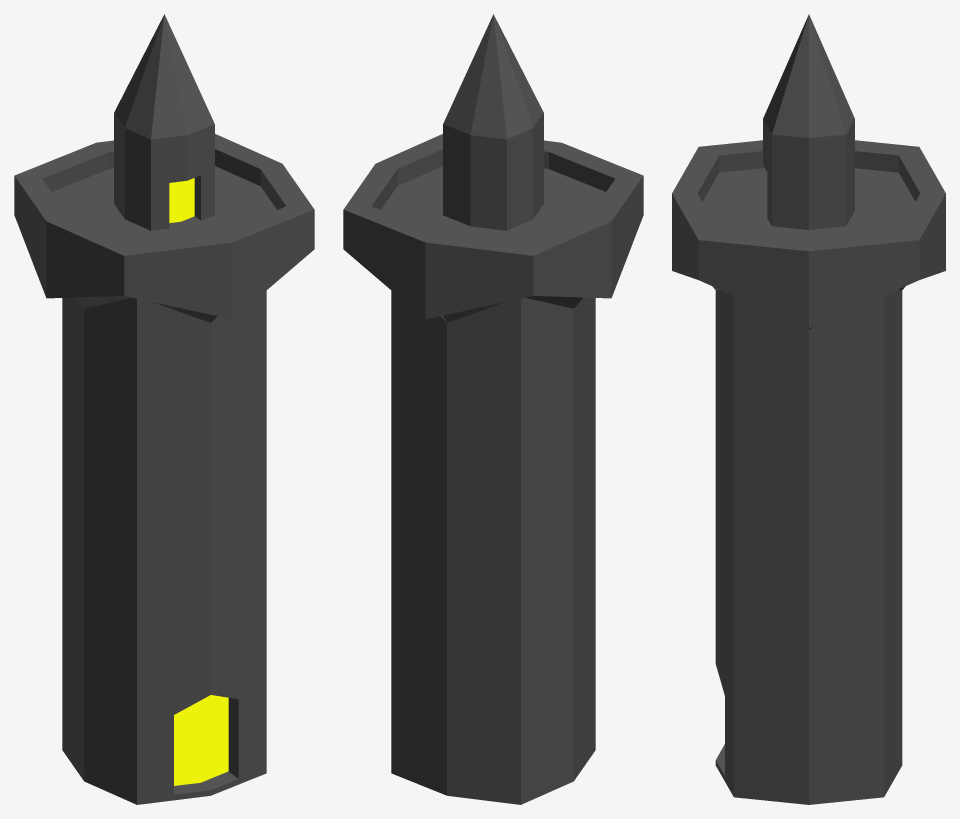
File: Dark Tower.glb
3 renders of one model, left to right at view 1: azimuth 30°, elevation 25°; view 2: azimuth 150°, elevation 25°; view 3: azimuth 270°, elevation 25°, orthographic.
Visible parts, largest first — view 1: Dark Tower; view 2: Dark Tower; view 3: Dark Tower.
Boxes of the visible parts, x1,y1,x2,y2 form: Dark Tower: (14, 14, 314, 804); Dark Tower: (343, 14, 643, 804); Dark Tower: (672, 14, 945, 804).
Size of the model in its own units: 0.6614 by 2 by 0.6614.
